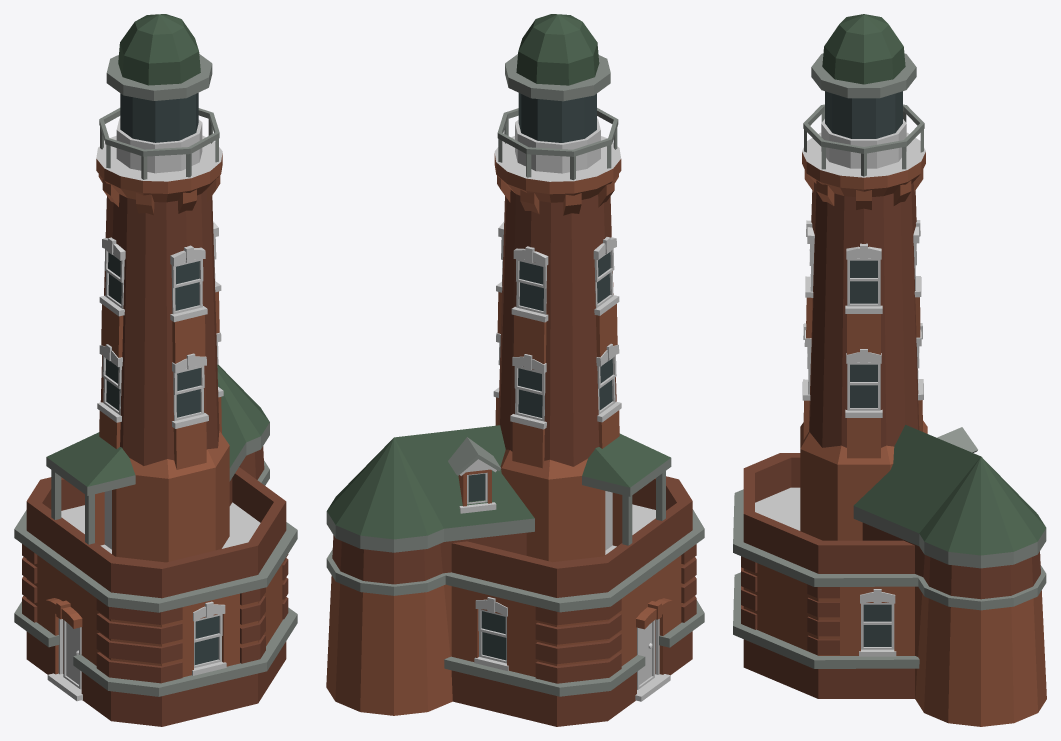
File: Lighthouse.glb
3 views of the same model, side by side, from view 1: azimuth 30°, elevation 25°; view 2: azimuth 150°, elevation 25°; view 3: azimuth 270°, elevation 25° (orthographic). The views are drawn at different scales.
Parts seen in each view (by area): view 1: Lighthouse; view 2: Lighthouse; view 3: Lighthouse.
Part boxes in pixels (box(x1,y1,x2,y2)): Lighthouse: box(14, 14, 297, 726); Lighthouse: box(326, 14, 704, 726); Lighthouse: box(733, 14, 1046, 726).
Size of the model in its own units: 9.22 by 21.85 by 9.78.
2 materials, 2 textured.
